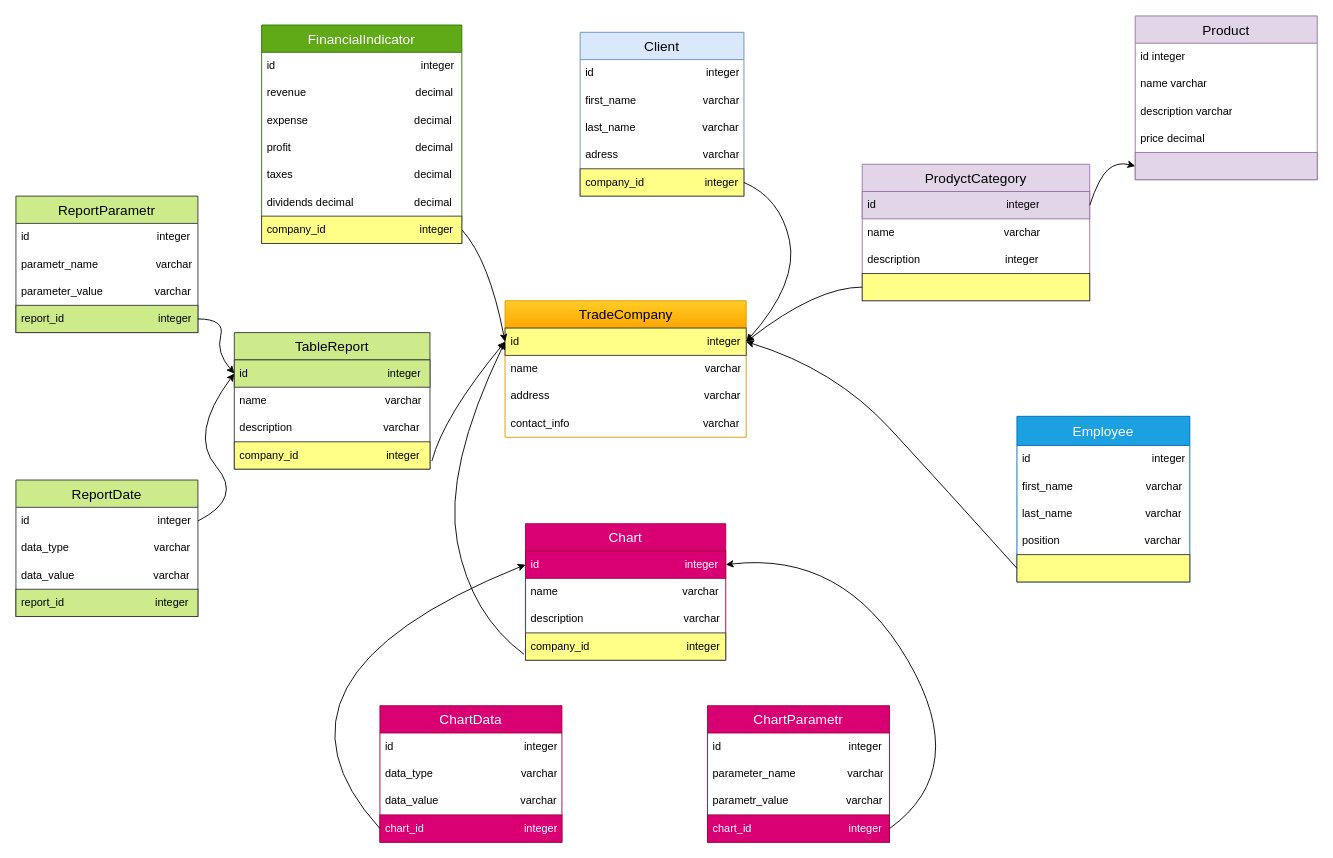
This 1333x858 diagram has some shape labels left out. The shapes that lost their labels are listed below. From the top down, each one's centre as x and y in pixels, then its label:
point 1225,166: category_id integer
point 975,287: comany_id integer
point 1103,568: company_id varchar
